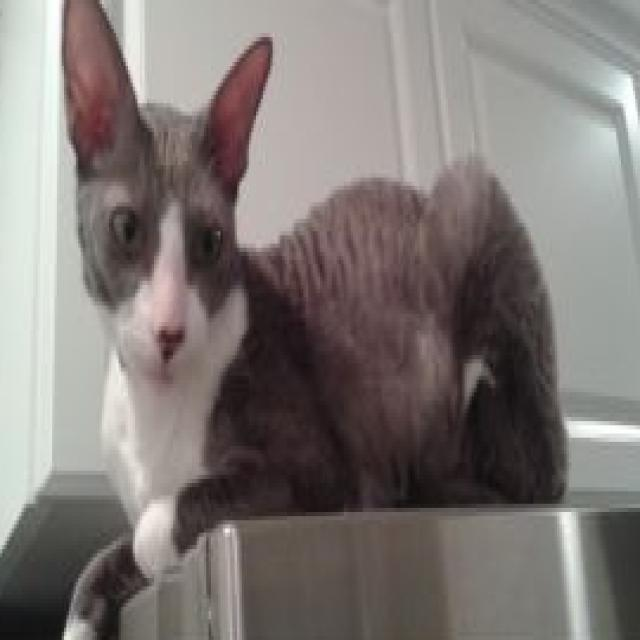Cornish Rex: (52, 0, 571, 640)
